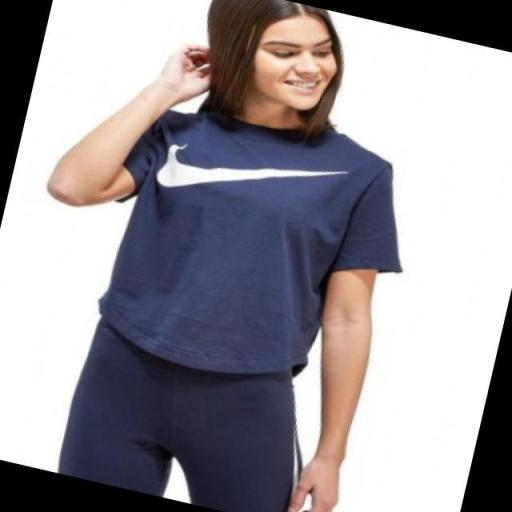Nike: (149, 130, 354, 228)
